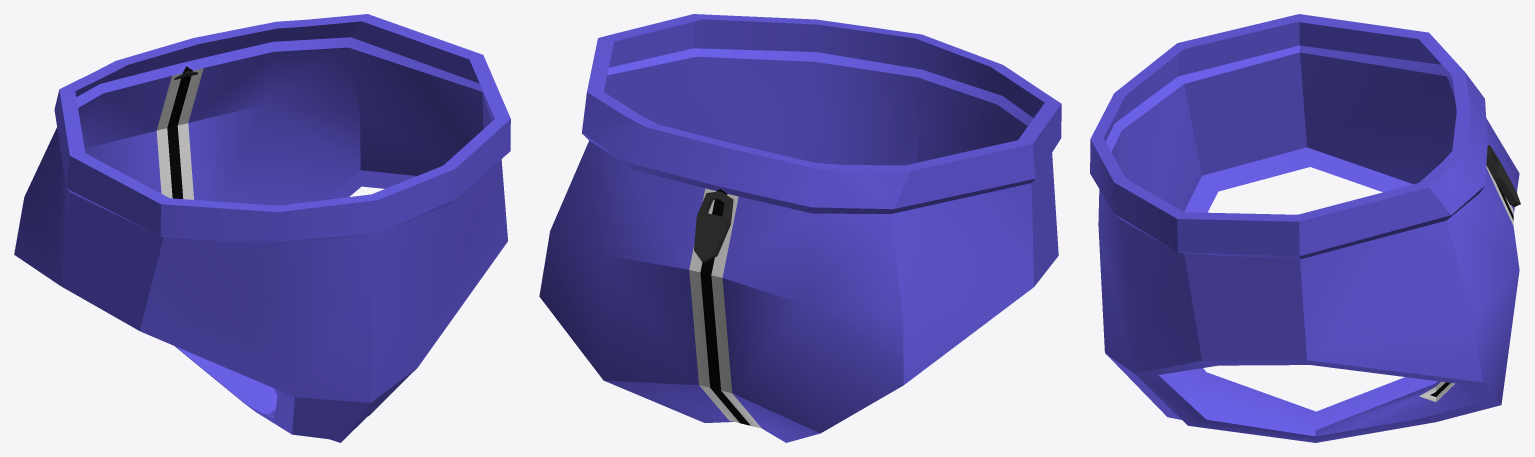
File: UnderPants_С.fbx
3 views of the same model, side by side, from view 1: azimuth 30°, elevation 25°; view 2: azimuth 150°, elevation 25°; view 3: azimuth 270°, elevation 25° (orthographic). The views are drawn at different scales.
Visible parts, largest first — view 1: UnderPants_С; view 2: UnderPants_С; view 3: UnderPants_С.
Part boxes in pixels (x1,y1,x2,y2): UnderPants_С: (14, 14, 510, 442); UnderPants_С: (539, 14, 1061, 442); UnderPants_С: (1090, 14, 1520, 442).
Bounding box in the file's own units: 32.41 × 23.54 × 27.73.
